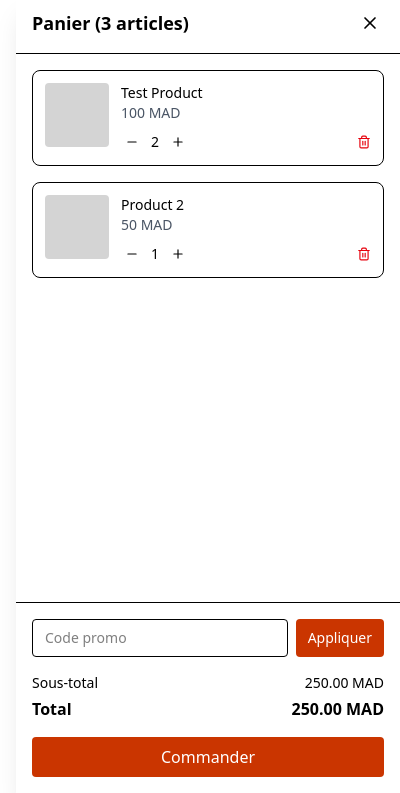
Cart Component › allows applying coupon code
Type "PROMO10" into the field with placeholder "Code promo" at (160, 638), box [32,619,288,657]
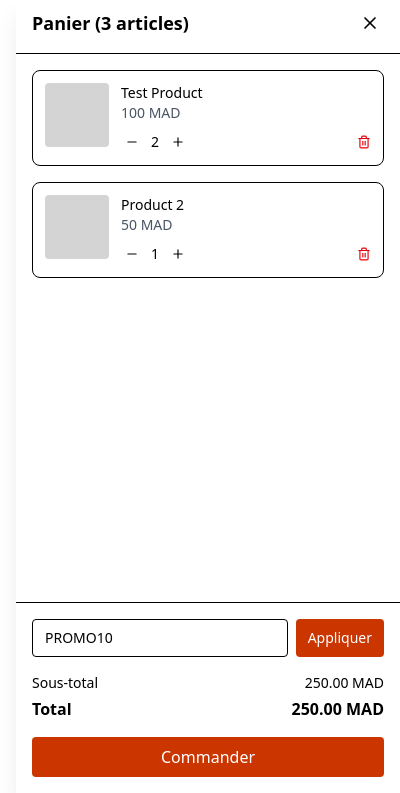
Click the button "Appliquer" at (340, 638), box [296,619,384,657]
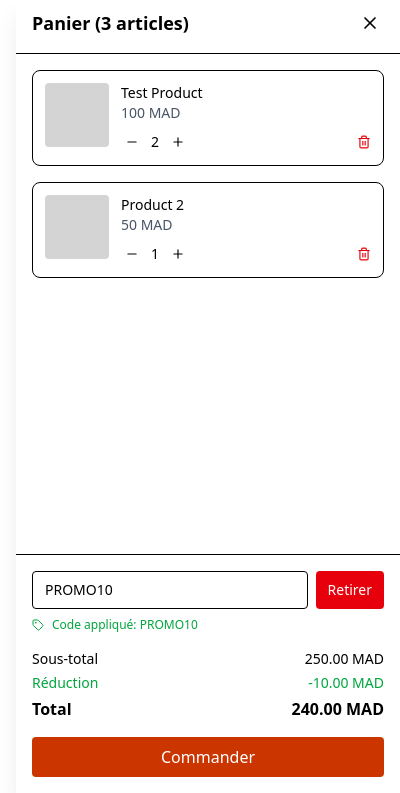
Check: the text "Code appliqué: PROMO10" is shown, box [52,617,198,633]
